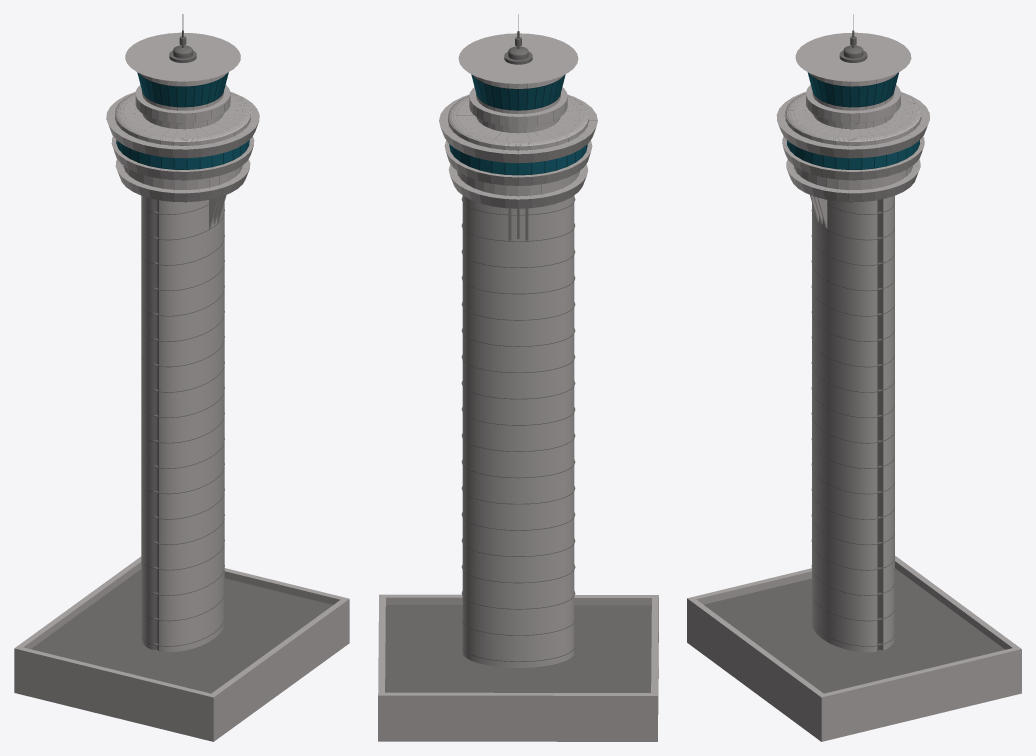
File: RJTTtower2.glb
3 renders of one model, left to right at view 1: azimuth 30°, elevation 25°; view 2: azimuth 150°, elevation 25°; view 3: azimuth 270°, elevation 25°, orthographic. The views are drawn at different scales.
Parts seen in each view (by area): view 1: Cylinder, Cube.001, Cylinder.002; view 2: Cylinder, Cube.001, Cylinder.002, Cylinder.001; view 3: Cylinder, Cube.001, Cylinder.002.
Part boxes in pixels (bbox=[...]): Cylinder: bbox=[141, 195, 224, 652]; Cube.001: bbox=[14, 556, 349, 741]; Cylinder.002: bbox=[106, 32, 259, 228]; Cylinder: bbox=[461, 195, 575, 667]; Cube.001: bbox=[378, 594, 658, 741]; Cylinder.002: bbox=[439, 33, 597, 240]; Cylinder.001: bbox=[504, 14, 532, 64]; Cylinder: bbox=[811, 196, 894, 652]; Cube.001: bbox=[687, 555, 1021, 741]; Cylinder.002: bbox=[776, 32, 929, 228].
Bounding box in the file's own units: 56 × 116 × 53.63.
